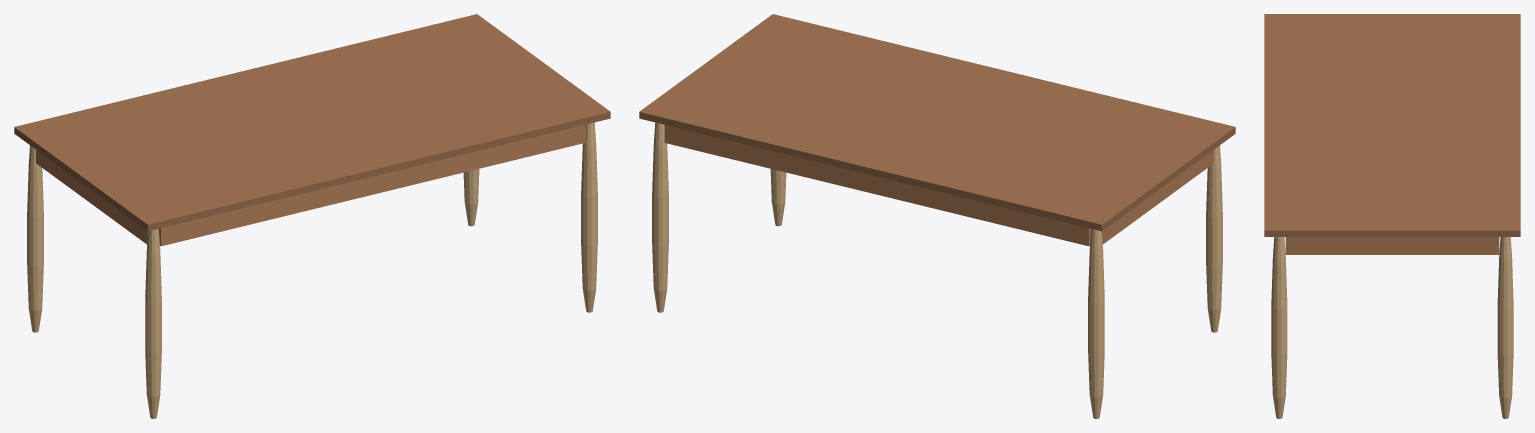
File: CAL-DTB-6-seat.glb
3 views of the same model, side by side, from view 1: azimuth 30°, elevation 25°; view 2: azimuth 150°, elevation 25°; view 3: azimuth 270°, elevation 25° (orthographic). The views are drawn at different scales.
Parts seen in each view (by area): view 1: top:pbr, apron-f:pbr, leg-fl:pbr, leg-fr:pbr, leg-bl:pbr, apron-l:pbr, leg-br:pbr; view 2: top:pbr, apron-b:pbr, leg-bl:pbr, leg-br:pbr, leg-fl:pbr, apron-l:pbr, leg-fr:pbr; view 3: top:pbr, apron-r:pbr, leg-fr:pbr, leg-br:pbr.
Part boxes in pixels (x1=…): top:pbr: x1=14, y1=14, x2=610, y2=231; apron-f:pbr: x1=159, y1=125, x2=585, y2=246; leg-fl:pbr: x1=145, y1=229, x2=161, y2=418; leg-fr:pbr: x1=581, y1=122, x2=597, y2=312; leg-bl:pbr: x1=27, y1=145, x2=43, y2=332; apron-l:pbr: x1=36, y1=150, x2=147, y2=244; leg-br:pbr: x1=463, y1=169, x2=479, y2=226; top:pbr: x1=639, y1=14, x2=1235, y2=231; apron-b:pbr: x1=664, y1=125, x2=1090, y2=246; leg-bl:pbr: x1=1088, y1=229, x2=1104, y2=418; leg-br:pbr: x1=652, y1=122, x2=668, y2=312; leg-fl:pbr: x1=1206, y1=145, x2=1222, y2=332; apron-l:pbr: x1=1102, y1=150, x2=1213, y2=244; leg-fr:pbr: x1=770, y1=169, x2=786, y2=226; top:pbr: x1=1264, y1=14, x2=1520, y2=236; apron-r:pbr: x1=1285, y1=237, x2=1499, y2=254; leg-fr:pbr: x1=1271, y1=237, x2=1287, y2=418; leg-br:pbr: x1=1497, y1=237, x2=1513, y2=418.
Bounding box in the file's own units: 1.8 × 0.75 × 0.9.
